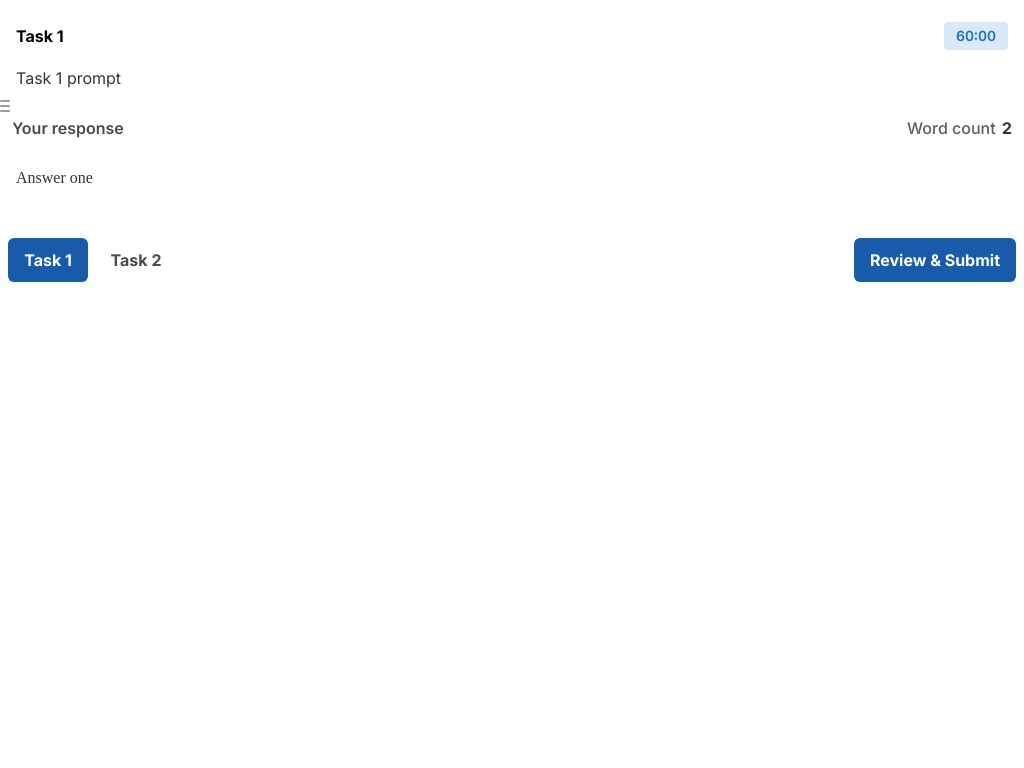
Test: StudentWriting task identity (Bug 4 preservation) › keeps each task answer under its own identity across a focused external switch
This screenshot has width=1024, height=768.
Replace the text in the text box named "writing response" with "Answer one revised": coordinates (512, 190) [0, 150, 1023, 230]
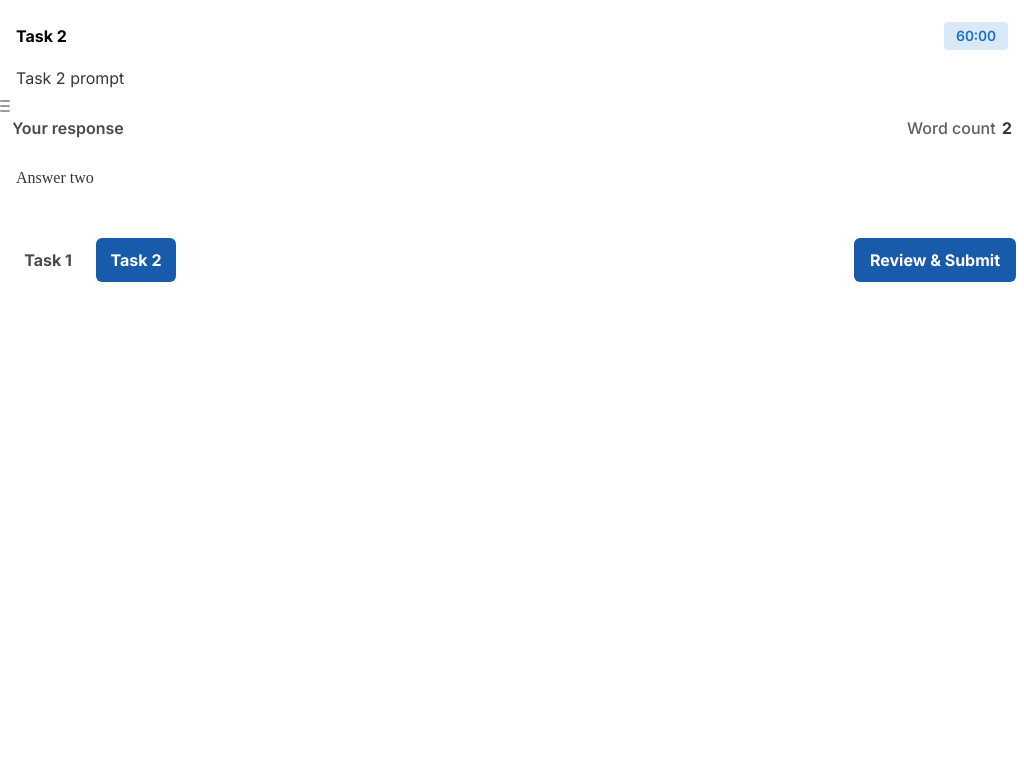
Expected: the text box named "writing response" holds "Answer two"
Replace the text in the text box named "writing response" with "Answer two revised": coordinates (512, 190) [0, 150, 1023, 230]
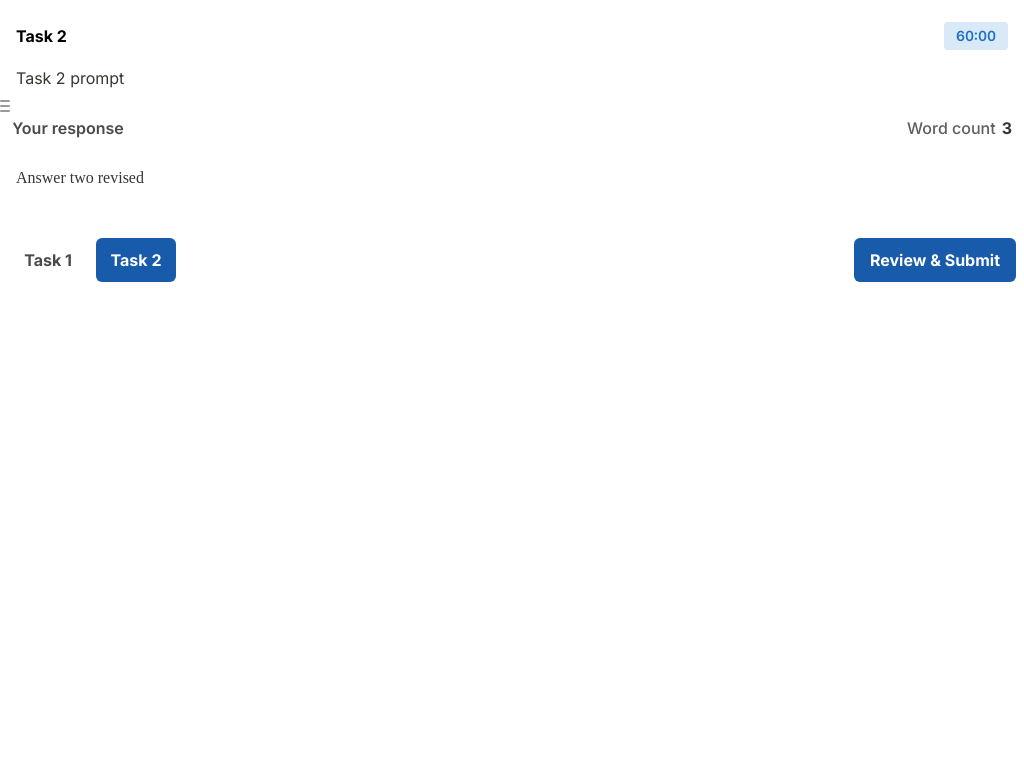
Click the button "Review & Submit": coordinates (935, 260) [854, 238, 1016, 282]
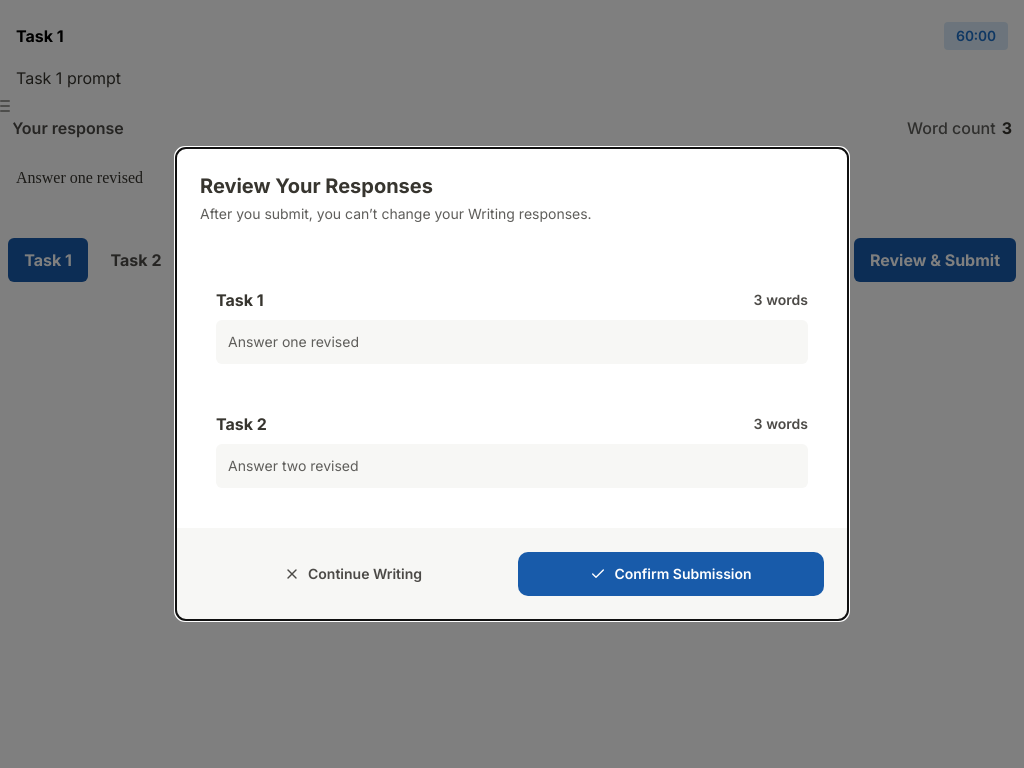
Expected: the dialog shows "Answer one revised", [228, 333, 359, 350]
Expected: the dialog shows "Answer two revised", [228, 457, 358, 474]
